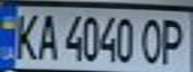0: (115, 13, 139, 64), (81, 12, 100, 63)
4: (60, 11, 84, 62), (100, 12, 121, 63)
A: (33, 10, 60, 62)
K: (6, 9, 42, 62)
O: (136, 15, 169, 65)
P: (157, 15, 190, 65)
